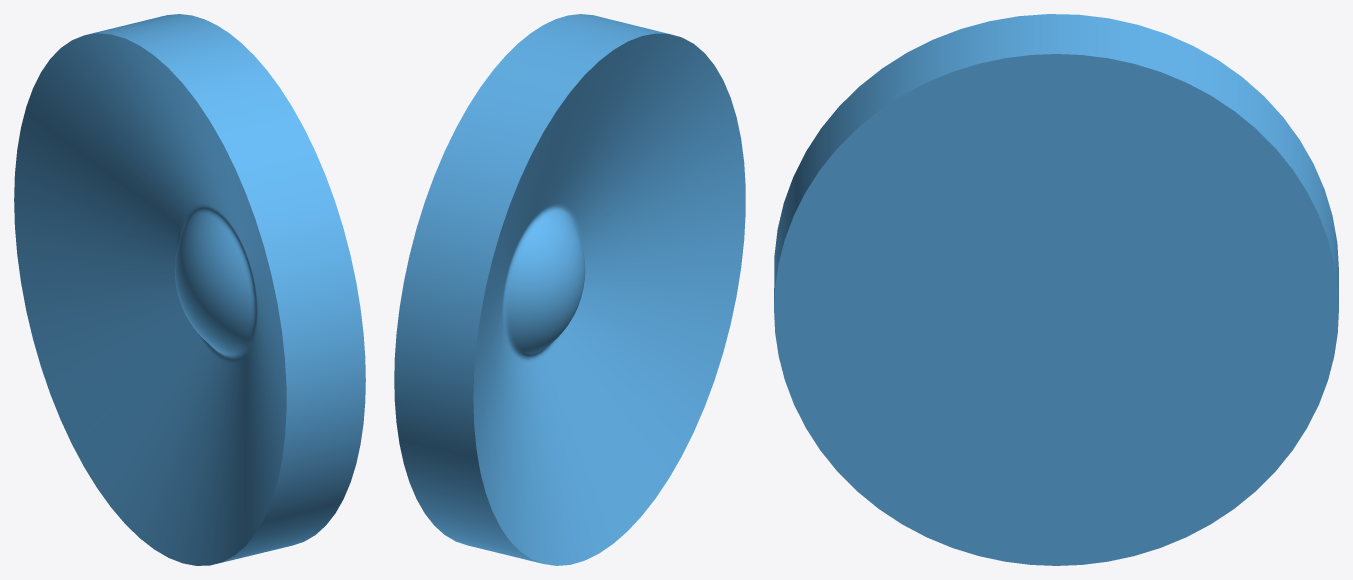
The model's file is Speaker Cone.dae.
3 views of the same model, side by side, from view 1: azimuth 30°, elevation 25°; view 2: azimuth 150°, elevation 25°; view 3: azimuth 270°, elevation 25° (orthographic). The views are drawn at different scales.
Visible parts, largest first — view 1: a1ee45ab-ab2f-4b77-bc7d-ac4f232e91e0; view 2: a1ee45ab-ab2f-4b77-bc7d-ac4f232e91e0; view 3: a1ee45ab-ab2f-4b77-bc7d-ac4f232e91e0.
Boxes of the visible parts, box(x1,y1,x2,y2) form: a1ee45ab-ab2f-4b77-bc7d-ac4f232e91e0: box(14, 14, 365, 565); a1ee45ab-ab2f-4b77-bc7d-ac4f232e91e0: box(394, 14, 745, 565); a1ee45ab-ab2f-4b77-bc7d-ac4f232e91e0: box(774, 14, 1338, 565).
Bounding box in the file's own units: 39.99 × 239 × 239.
